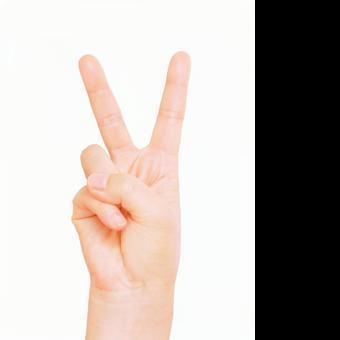tyoki: (69, 51, 192, 284)
